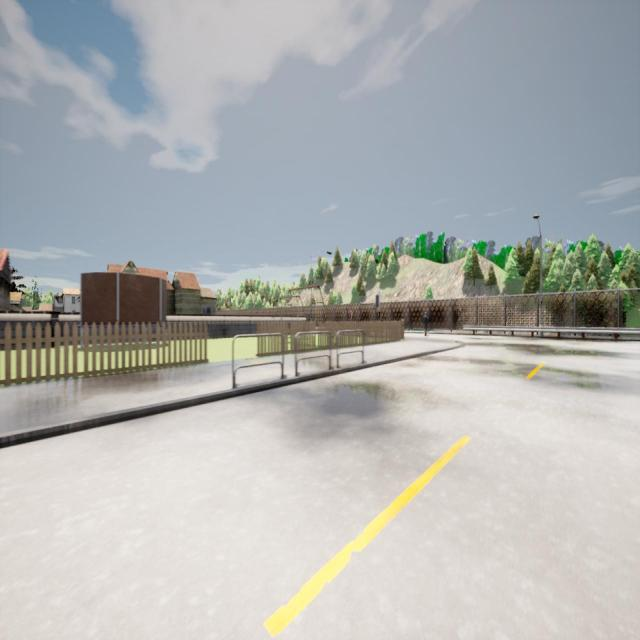Pedestrian: (422, 311, 430, 336)
traffic_light: (375, 295, 379, 307)
